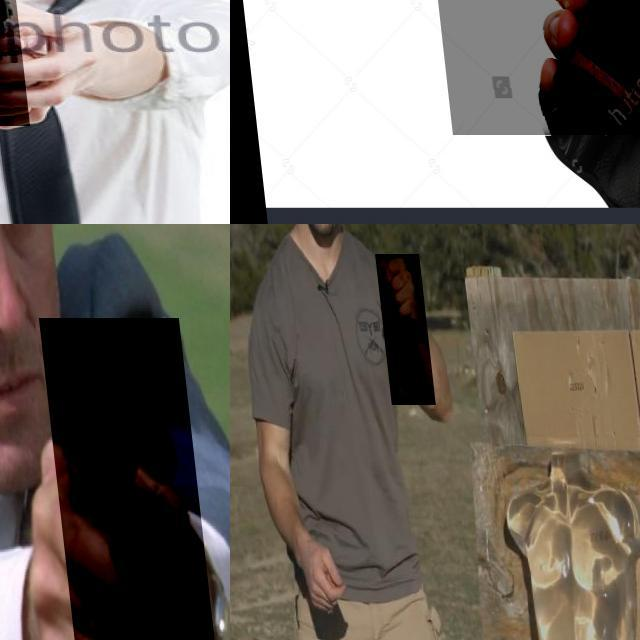-: (370, 254, 428, 405)
gun-knife-thesis - v11 Yolov5 augmented: (34, 317, 213, 640), (404, 0, 640, 206), (0, 0, 51, 126)
